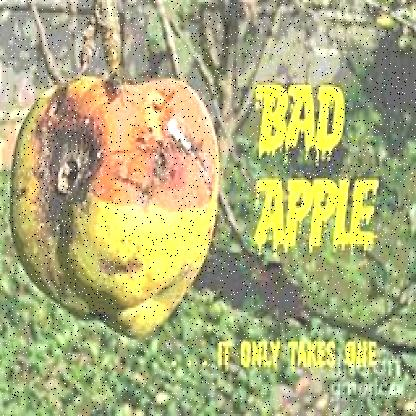damaged_apple: (13, 87, 215, 327)
